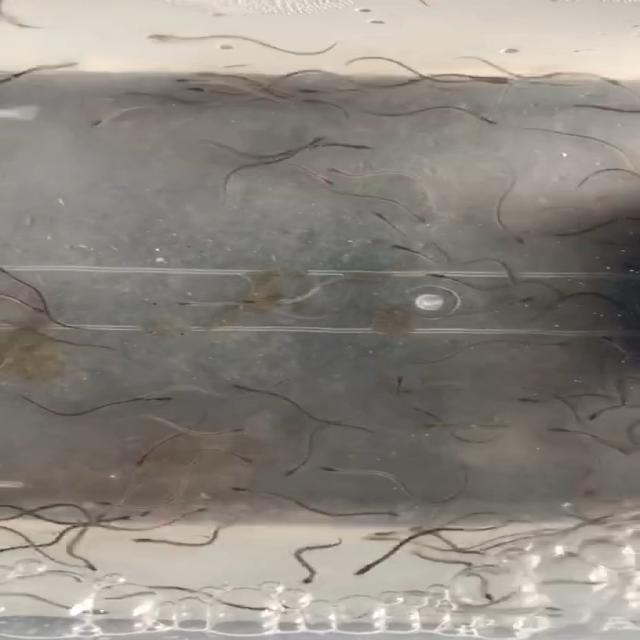active_glass_eel: (71, 107, 155, 134), (481, 218, 546, 246), (236, 388, 294, 418), (273, 443, 333, 472), (185, 426, 240, 457), (170, 72, 258, 90), (458, 68, 526, 90), (316, 77, 380, 100), (179, 290, 230, 317), (159, 540, 226, 560), (368, 201, 436, 220), (126, 446, 180, 469), (408, 240, 463, 262), (258, 136, 333, 152), (273, 161, 332, 181), (435, 103, 483, 126), (430, 267, 482, 288), (189, 34, 239, 55), (292, 554, 332, 580), (363, 548, 400, 576), (157, 491, 204, 513), (10, 60, 56, 82), (432, 376, 468, 403), (255, 298, 297, 320), (136, 390, 182, 410), (569, 400, 620, 418), (351, 459, 399, 478), (80, 507, 135, 523), (202, 94, 250, 112), (82, 558, 131, 572), (502, 290, 536, 307), (18, 544, 41, 557)
